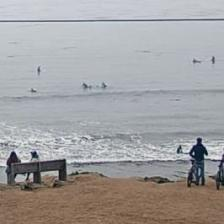surfer: (82, 82, 91, 88), (29, 88, 37, 94), (192, 58, 201, 63), (210, 56, 216, 63), (100, 82, 107, 88), (37, 66, 41, 74)
